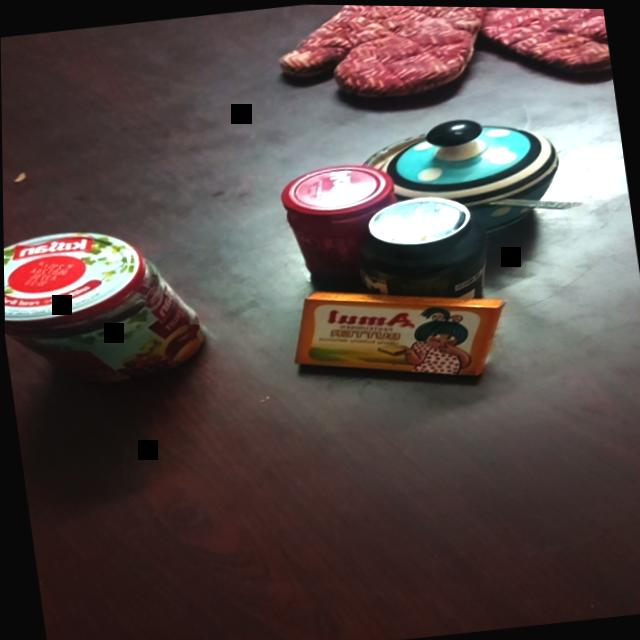butter: (273, 273, 524, 399)
